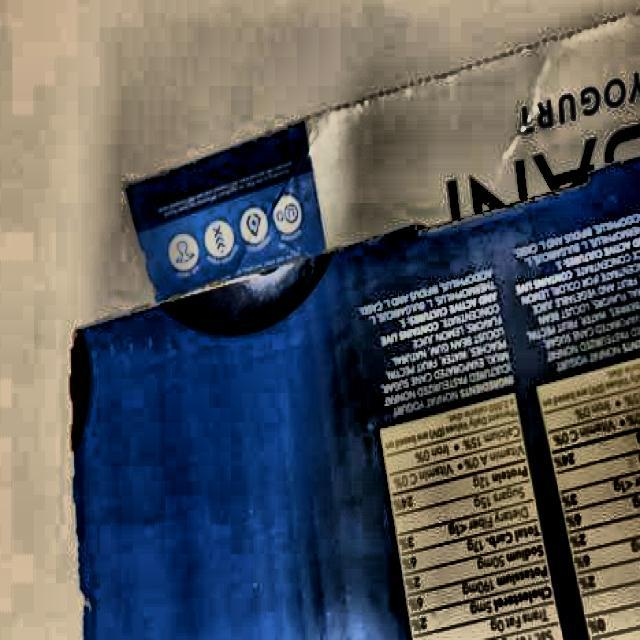cardboard: (68, 133, 640, 640)
